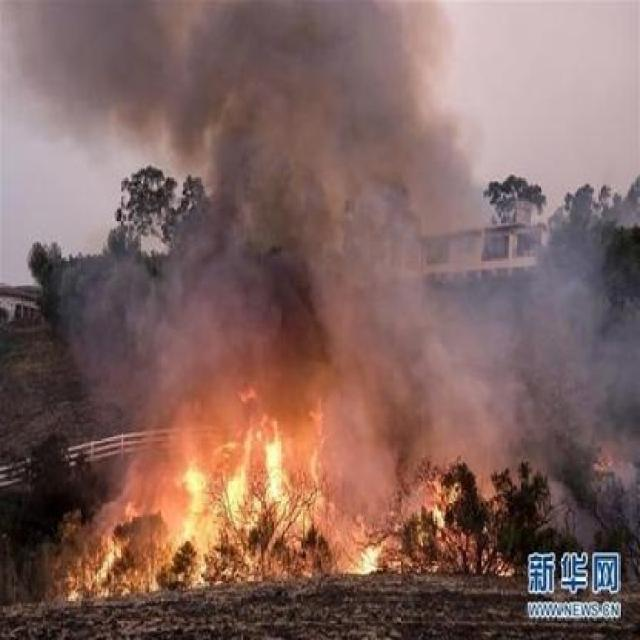Fire: (52, 406, 522, 602)
Smoke: (47, 7, 640, 400)
